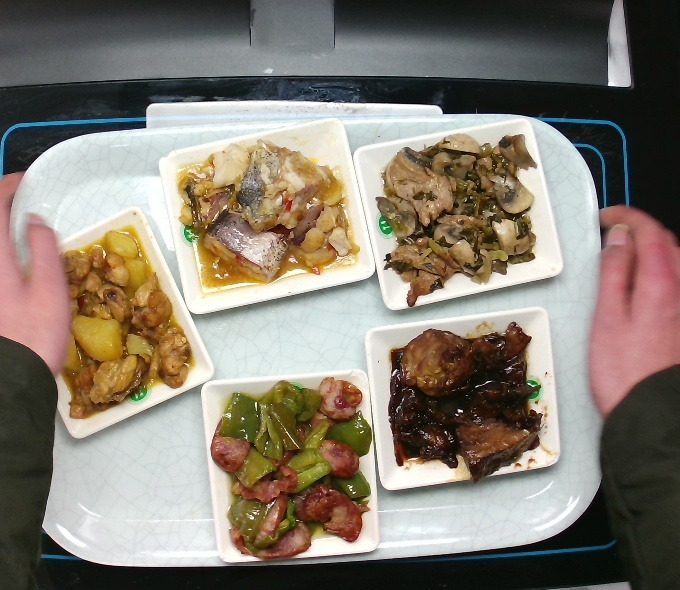wcq-JiangZhiYa: (386, 318, 543, 482)
wcq-MoGuRouPian: (378, 132, 540, 307)
wcq-QingJiaoXiangChang: (209, 374, 372, 561)
wcq-SuanCaiYu: (176, 139, 363, 292)
